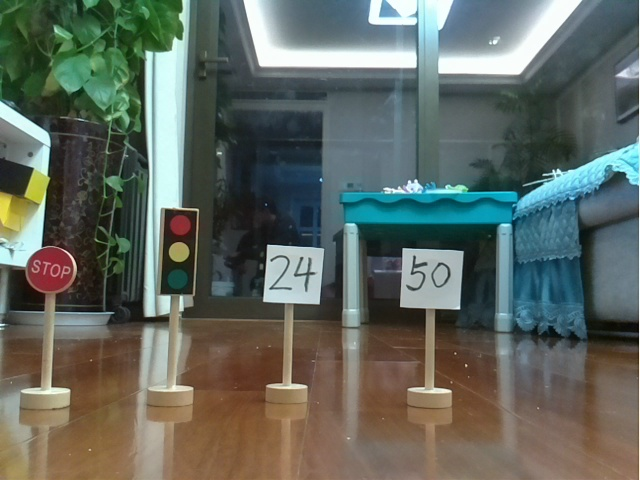Red Traffic Light: (144, 203, 204, 411)
Speed Limit 24: (256, 239, 326, 408)
Speed Limit 50: (394, 241, 467, 416)
Stop Sign: (21, 245, 81, 409)
